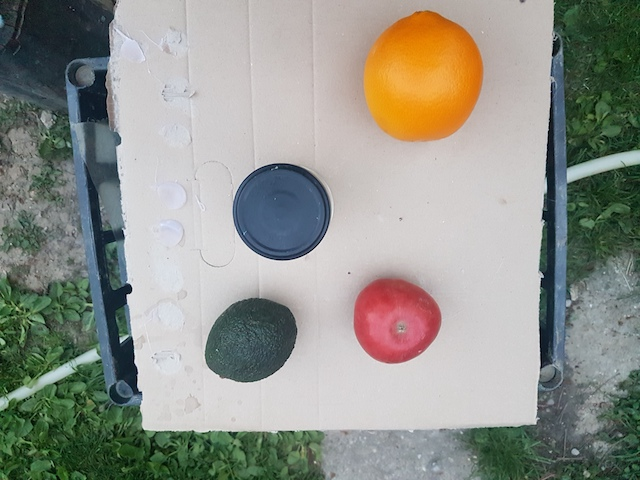apple: (353, 278, 444, 366)
avocado: (206, 298, 298, 386)
orange: (358, 9, 487, 145)
recipient: (230, 164, 331, 268)
